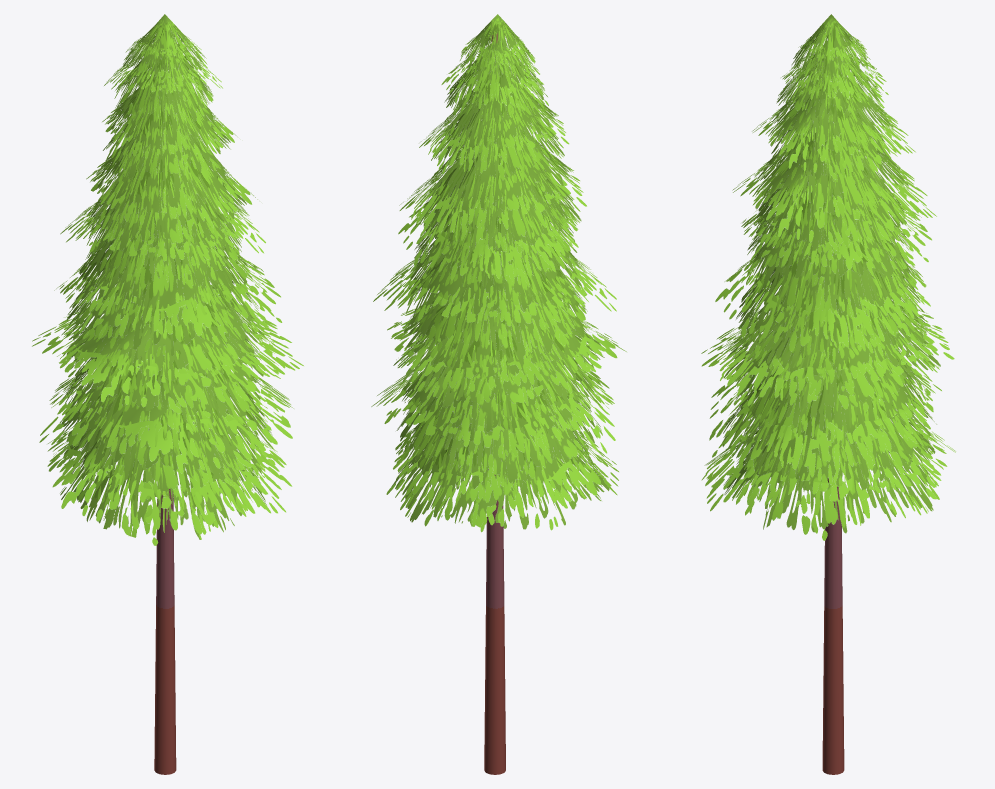
File: tree.fbx
The picture shows the model from 3 angles, left to right: view 1: azimuth 30°, elevation 25°; view 2: azimuth 150°, elevation 25°; view 3: azimuth 270°, elevation 25°; orthographic projection.
Visible parts, largest first — view 1: Cylinder.003, Cylinder.004, Cylinder.002, Cylinder.005, Cylinder.007, Cylinder.006, Cylinder.008, Cylinder.001, Cylinder.009, Cylinder; view 2: Cylinder.003, Cylinder.004, Cylinder.005, Cylinder.002, Cylinder.007, Cylinder.006, Cylinder.008, Cylinder.001, Cylinder.009, Cylinder; view 3: Cylinder.003, Cylinder.005, Cylinder.002, Cylinder.004, Cylinder.007, Cylinder.008, Cylinder.006, Cylinder.001, Cylinder.009, Cylinder.
Part boxes in pixels (left/top/right/bottom): Cylinder.003: left=39, top=343, right=293, bottom=478; Cylinder.004: left=32, top=284, right=303, bottom=417; Cylinder.002: left=47, top=401, right=292, bottom=545; Cylinder.005: left=54, top=233, right=282, bottom=356; Cylinder.007: left=86, top=120, right=257, bottom=251; Cylinder.006: left=60, top=158, right=265, bottom=285; Cylinder.008: left=102, top=66, right=237, bottom=180; Cylinder.001: left=154, top=489, right=176, bottom=774; Cylinder.009: left=104, top=49, right=222, bottom=120; Cylinder: left=123, top=14, right=207, bottom=78; Cylinder.003: left=371, top=337, right=615, bottom=483; Cylinder.004: left=387, top=281, right=626, bottom=409; Cylinder.005: left=373, top=225, right=616, bottom=353; Cylinder.002: left=386, top=402, right=618, bottom=532; Cylinder.007: left=399, top=124, right=586, bottom=254; Cylinder.006: left=398, top=169, right=578, bottom=287; Cylinder.008: left=419, top=68, right=569, bottom=182; Cylinder.001: left=484, top=33, right=505, bottom=774; Cylinder.009: left=441, top=41, right=548, bottom=124; Cylinder: left=460, top=14, right=535, bottom=79; Cylinder.003: left=709, top=331, right=941, bottom=484; Cylinder.005: left=715, top=234, right=930, bottom=358; Cylinder.002: left=701, top=382, right=955, bottom=540; Cylinder.004: left=701, top=276, right=954, bottom=411; Cylinder.007: left=732, top=120, right=936, bottom=256; Cylinder.008: left=752, top=77, right=915, bottom=184; Cylinder.006: left=741, top=172, right=931, bottom=285; Cylinder.001: left=822, top=33, right=844, bottom=774; Cylinder.009: left=776, top=41, right=888, bottom=122; Cylinder: left=791, top=14, right=871, bottom=85.
Bounding box in the file's own units: 819 × 2289 × 836.
